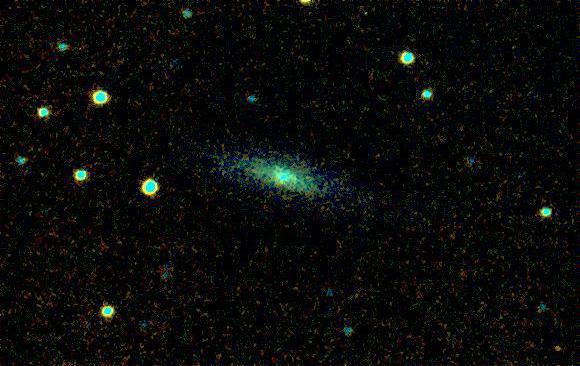star: (544, 335, 574, 365)
